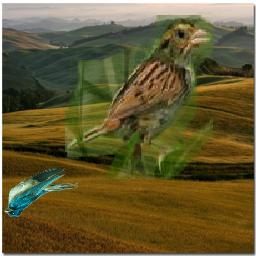Sparrow: (65, 15, 213, 179)
Swallow: (4, 167, 78, 217)
